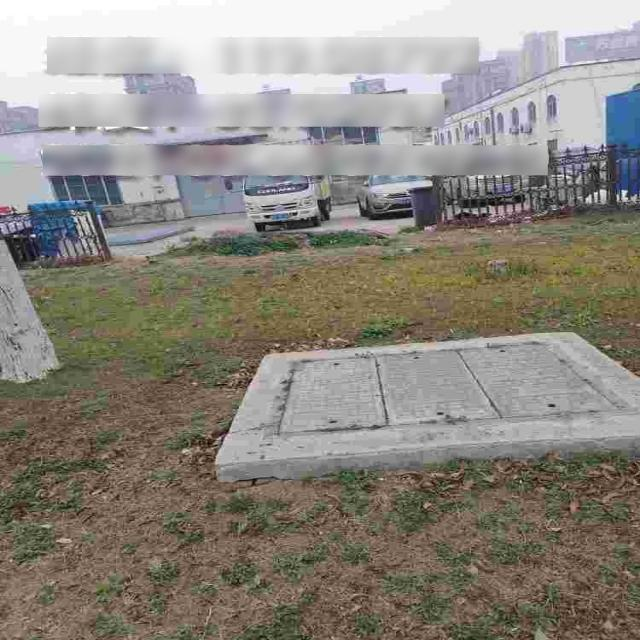Good: (248, 335, 640, 469)
